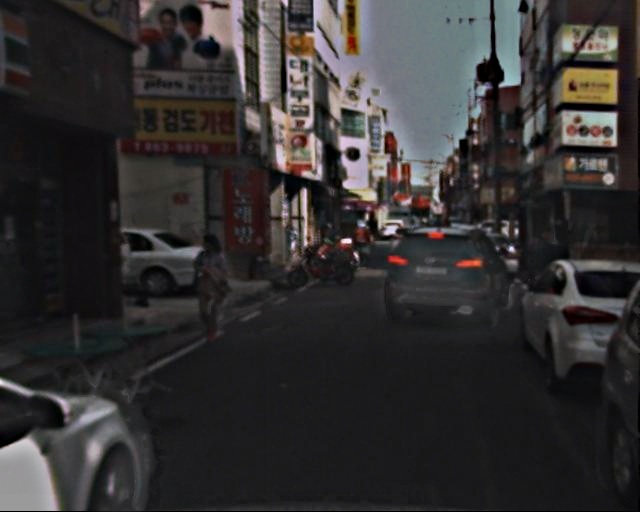person: (192, 230, 241, 343), (529, 224, 568, 311)
